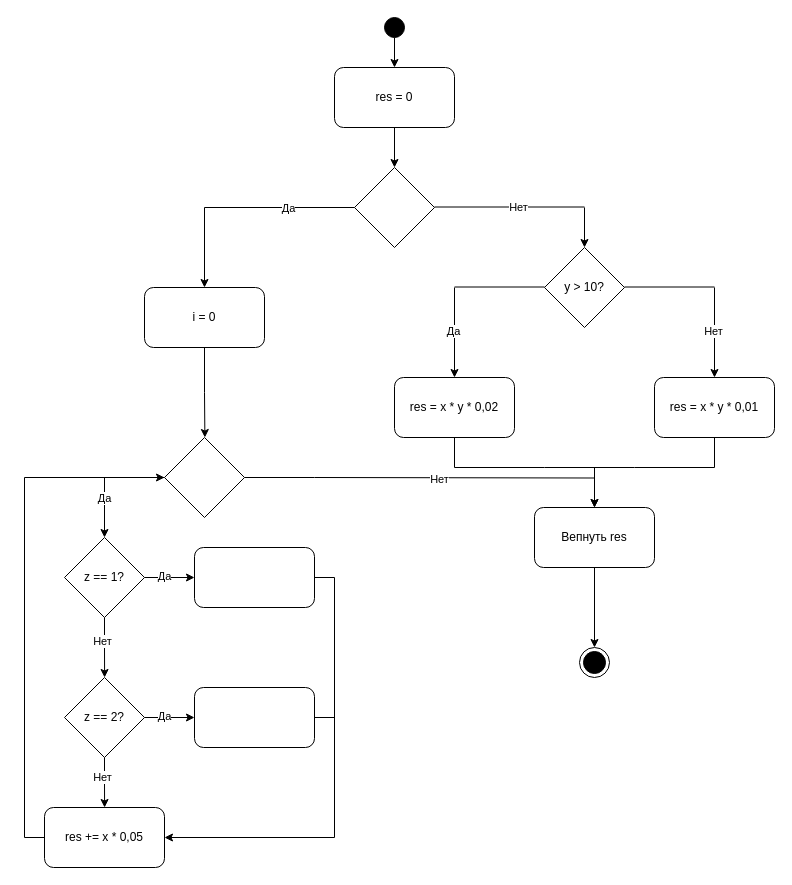
The diagram is 792 pixels wide and 885 high, and some of its shapes have lost their labels. Each missing label, with the box of its shape:
i < y?: (164, 436, 244, 518)
res += x * 0,10: (194, 686, 314, 748)
res += x * 0,15: (194, 546, 314, 608)
x > 1000?: (354, 166, 434, 248)
